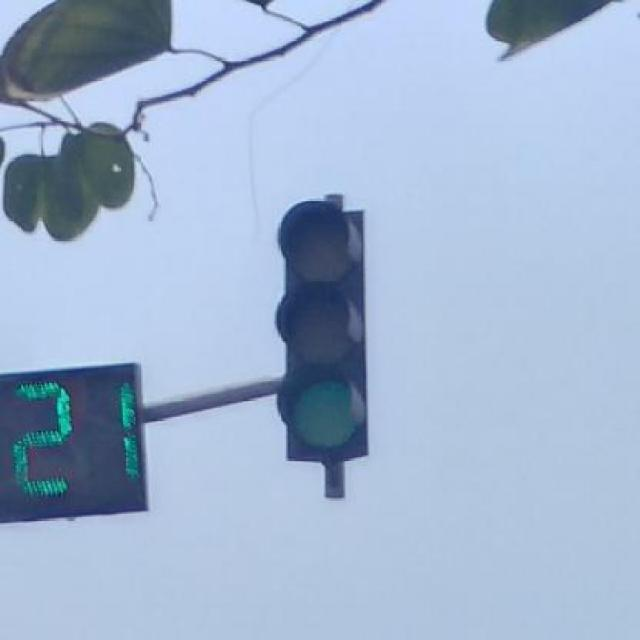traffic light: (277, 208, 370, 465)
